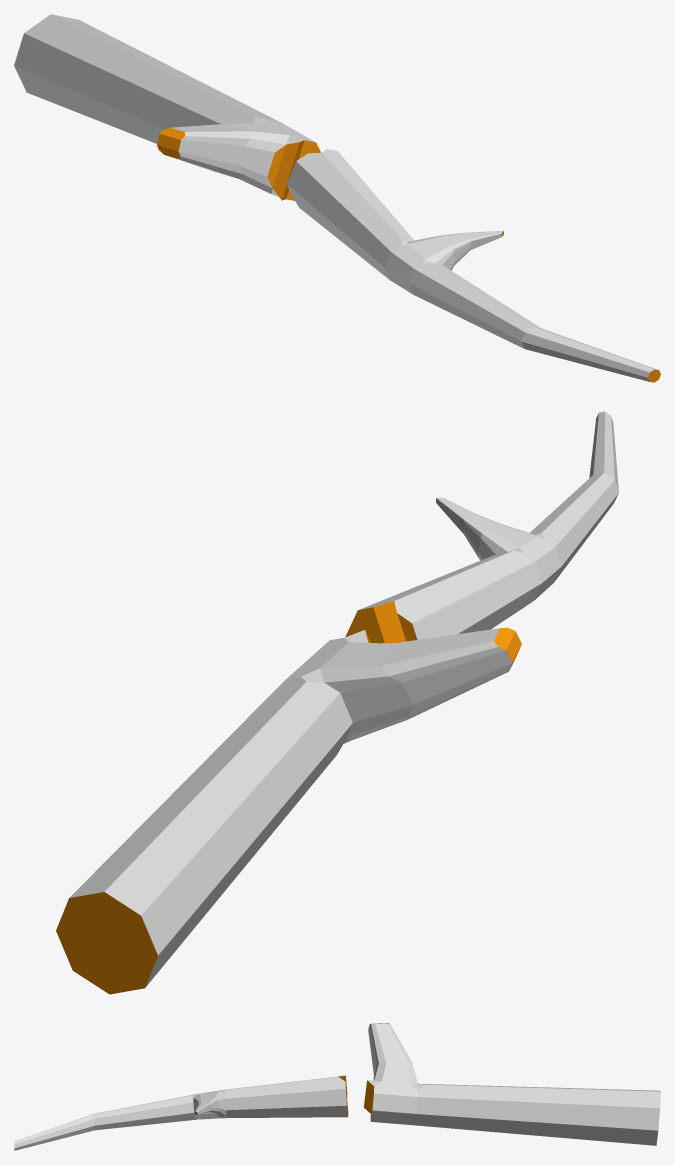
Rendered from Stick_28.fbx.
The picture shows the model from 3 angles, top to bottom: view 1: azimuth 30°, elevation 25°; view 2: azimuth 150°, elevation 25°; view 3: azimuth 270°, elevation 25°; orthographic projection. The views are drawn at different scales.
Parts seen in each view (by area): view 1: Circle.224, Circle.237; view 2: Circle.224, Circle.237; view 3: Circle.224, Circle.237.
Part boxes in pixels (left/top/right/bottom): Circle.224: left=14, top=14, right=320, bottom=200; Circle.237: left=287, top=149, right=660, bottom=382; Circle.224: left=56, top=627, right=521, bottom=994; Circle.237: left=345, top=411, right=618, bottom=643; Circle.224: left=363, top=1023, right=660, bottom=1145; Circle.237: left=14, top=1075, right=348, bottom=1150.
Size of the model in its own units: 9.65 by 5.99 by 37.36.
